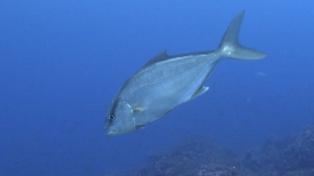Carangidae -Jacks-: (101, 2, 274, 140)
